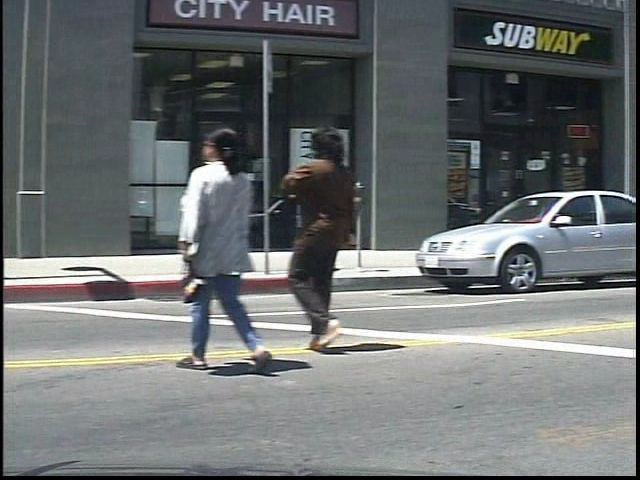person: (186, 121, 289, 374), (289, 120, 374, 355)
